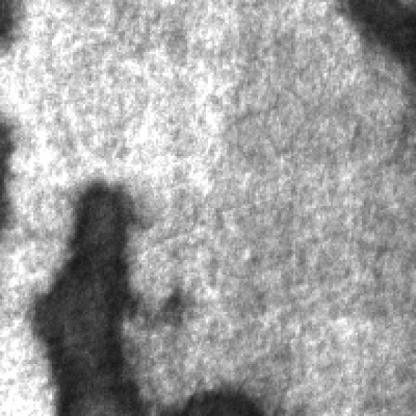patches: (35, 187, 152, 416), (349, 2, 416, 85)
